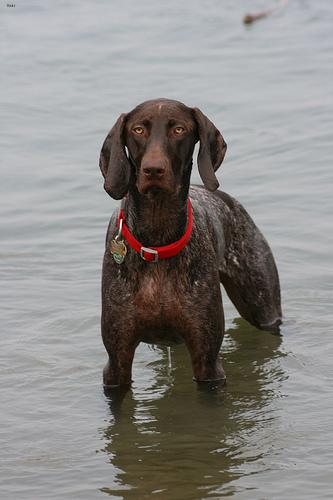dog-german_shorthaired: (98, 97, 225, 198)
